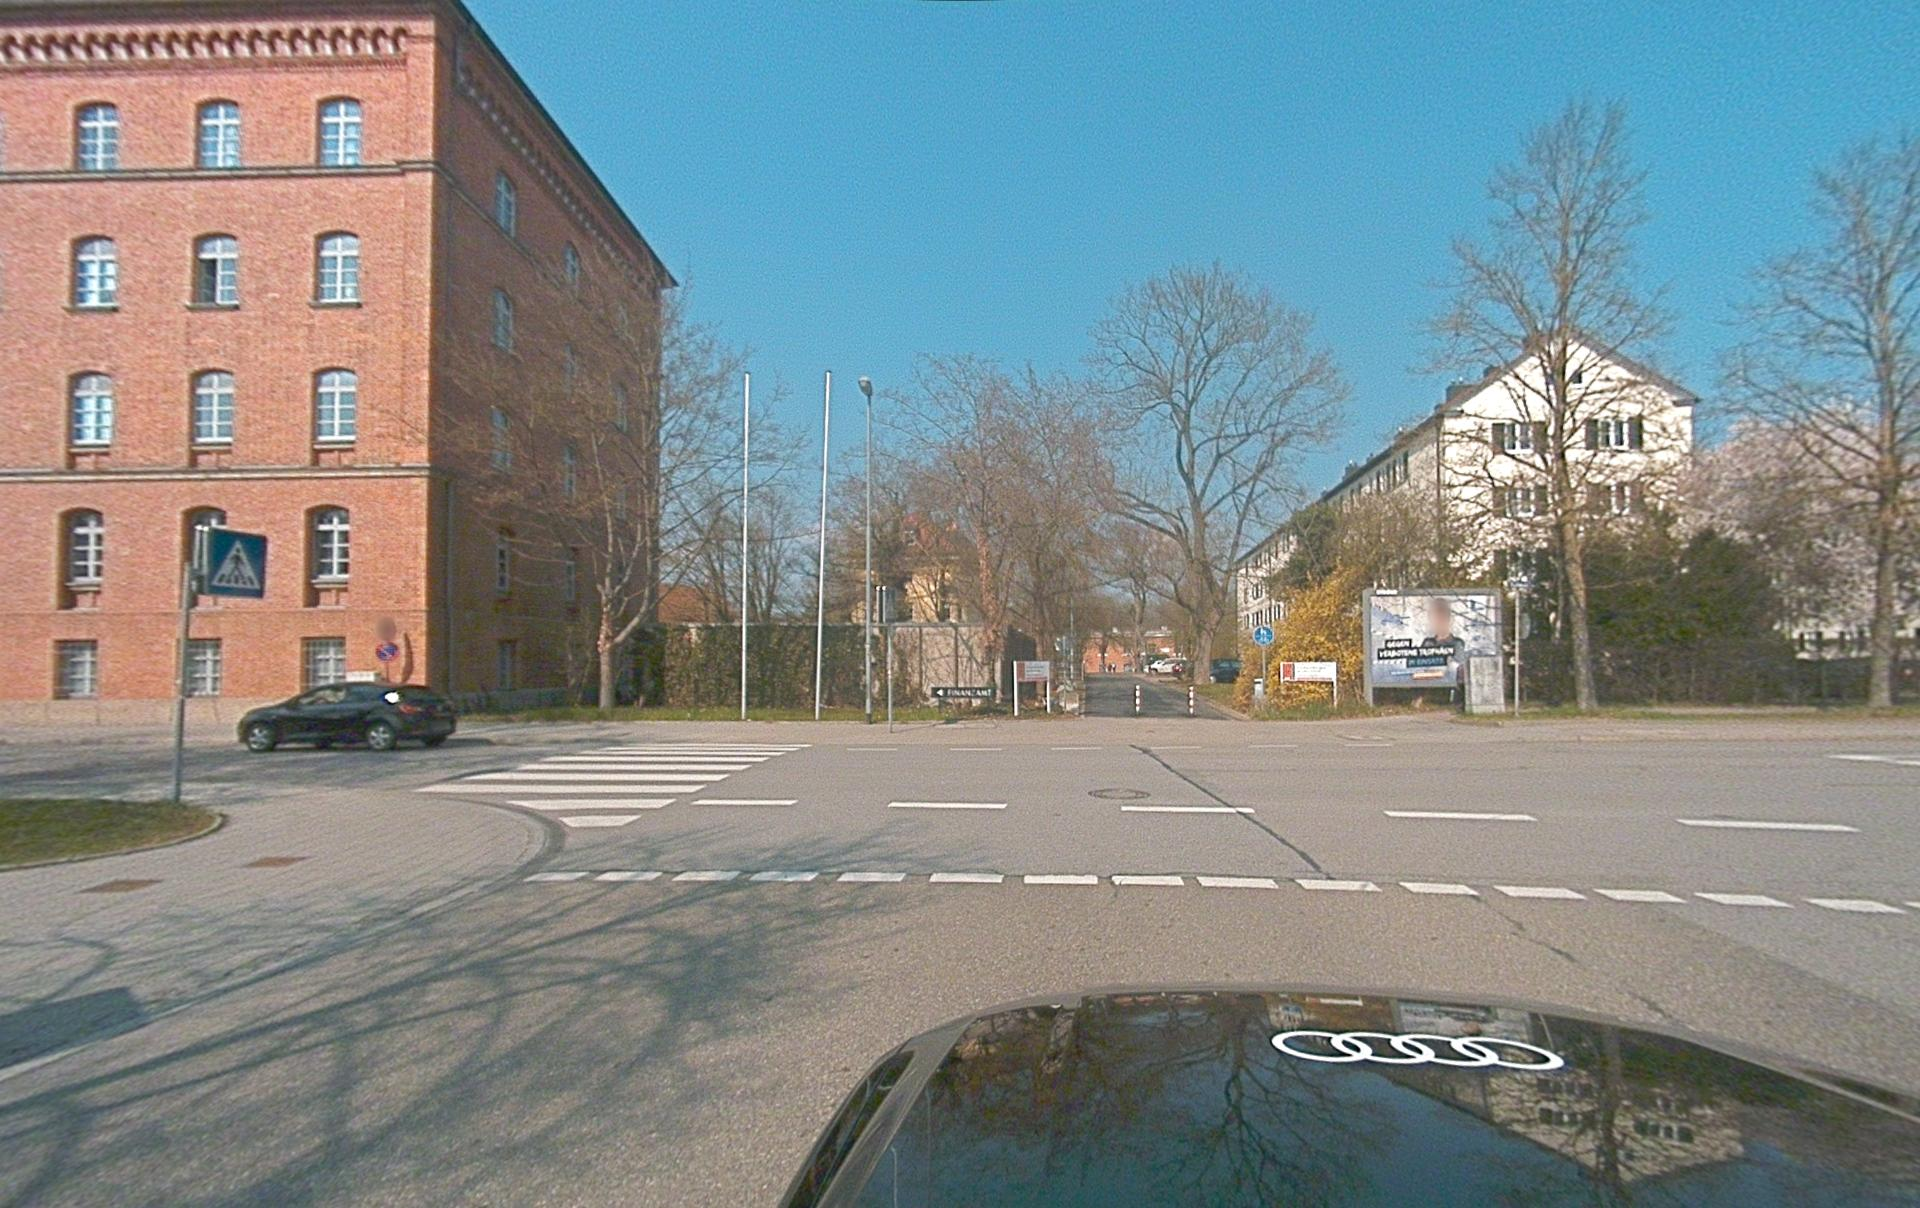car: (778, 983, 1920, 1207), (237, 682, 456, 753), (1210, 658, 1242, 683), (1148, 657, 1188, 676)
traffic sign: (193, 525, 269, 598), (932, 686, 993, 699)
